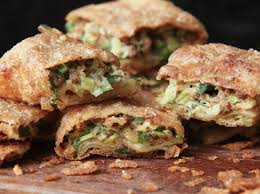Martabak telur: (65, 0, 208, 77), (0, 30, 120, 106), (165, 43, 260, 129), (56, 101, 187, 159)
